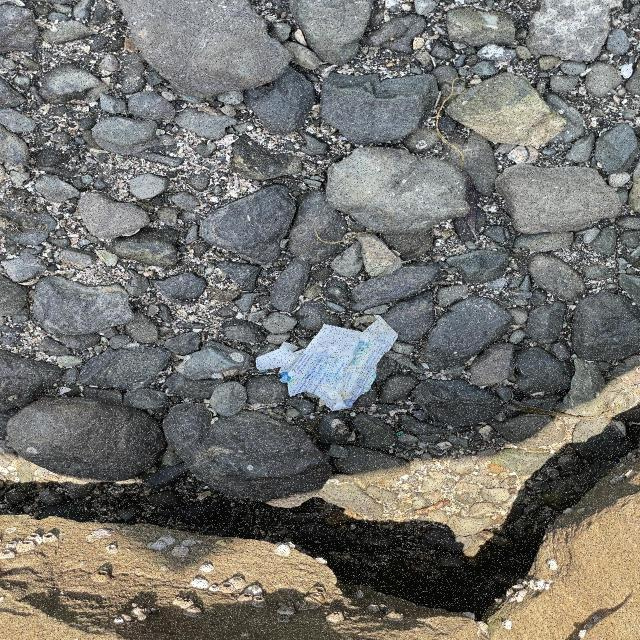plastic_waste: (256, 316, 401, 414)
